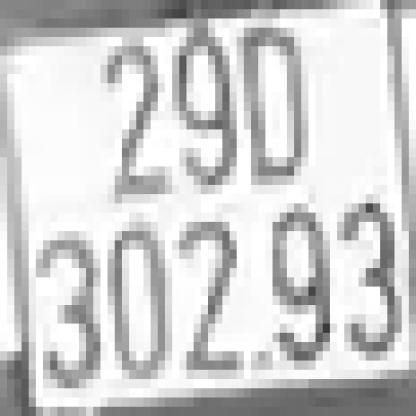0: (108, 222, 172, 370)
2: (100, 46, 165, 194), (179, 212, 237, 369)
3: (36, 222, 100, 379), (330, 204, 394, 352)
9: (265, 204, 323, 352), (172, 37, 230, 185)
D: (237, 28, 301, 185)
